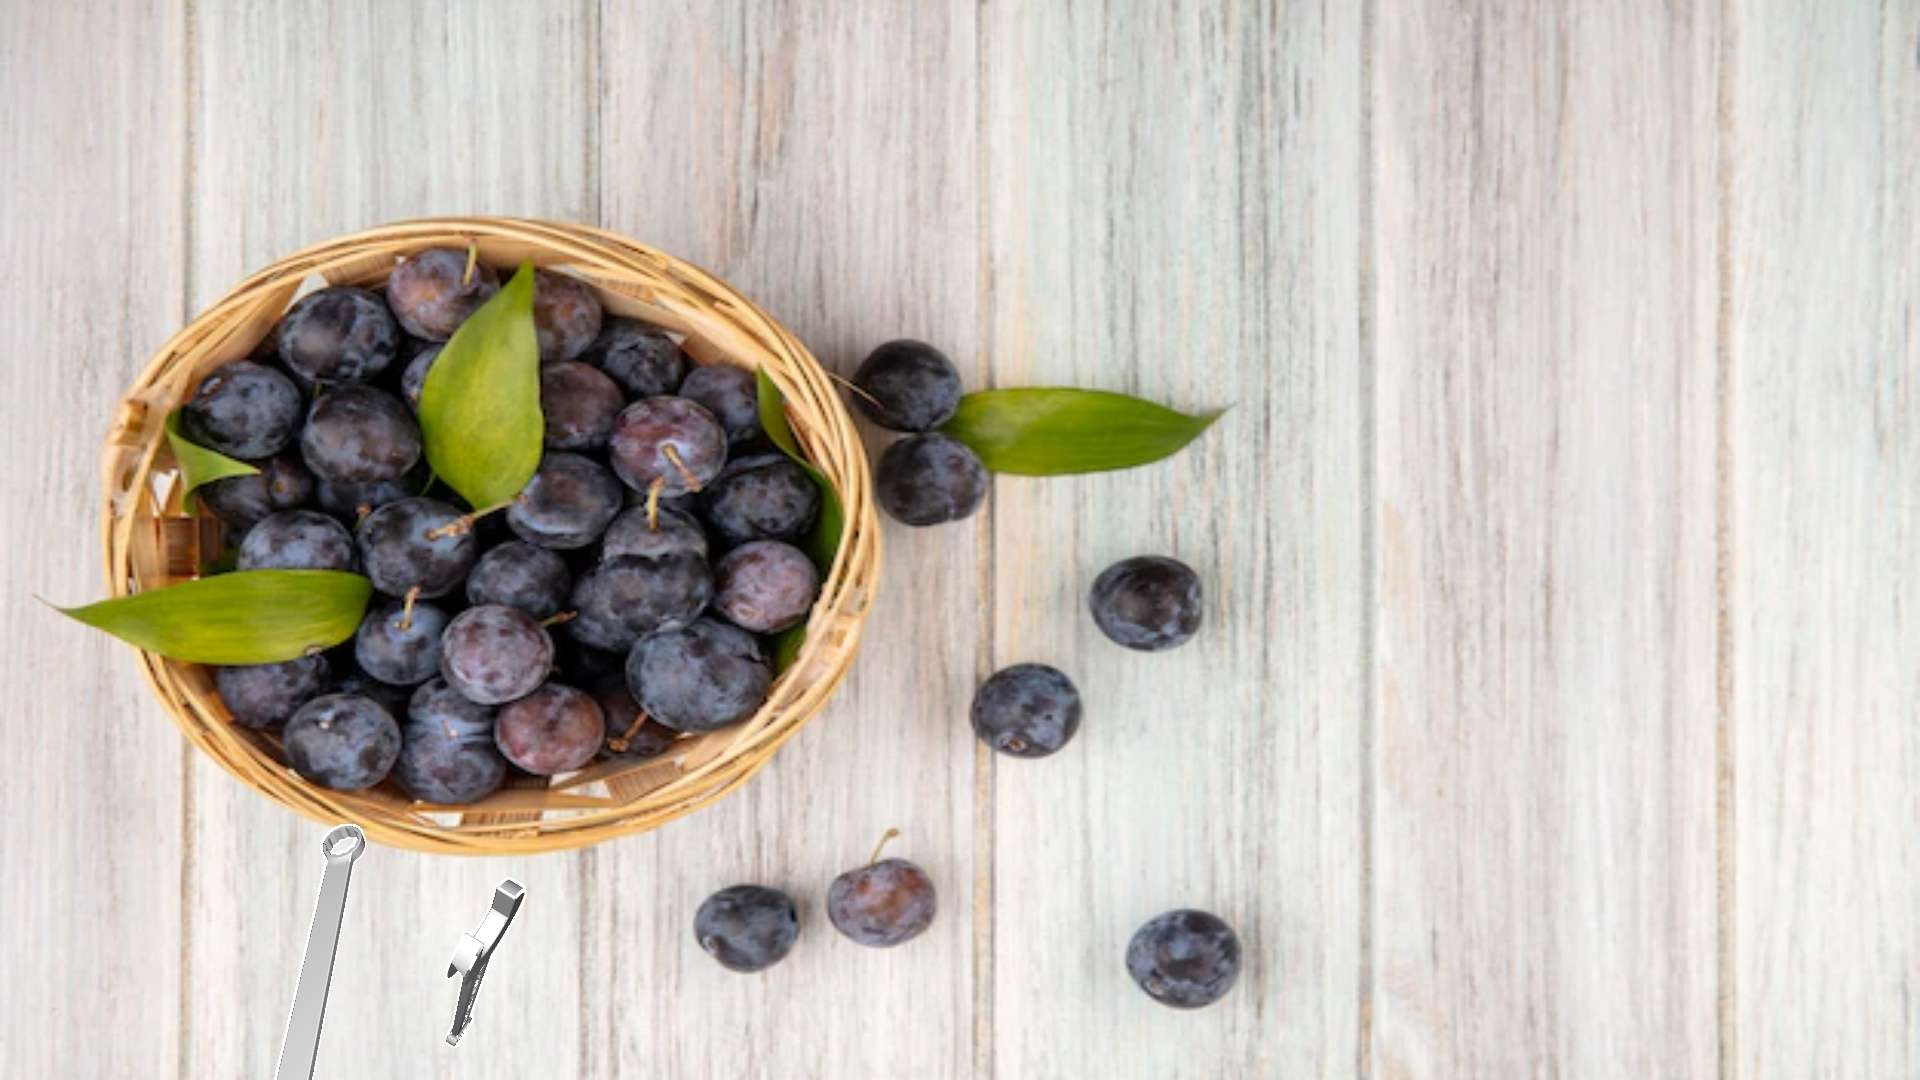Mixed Key: (274, 824, 365, 1079), (444, 877, 526, 1047)
